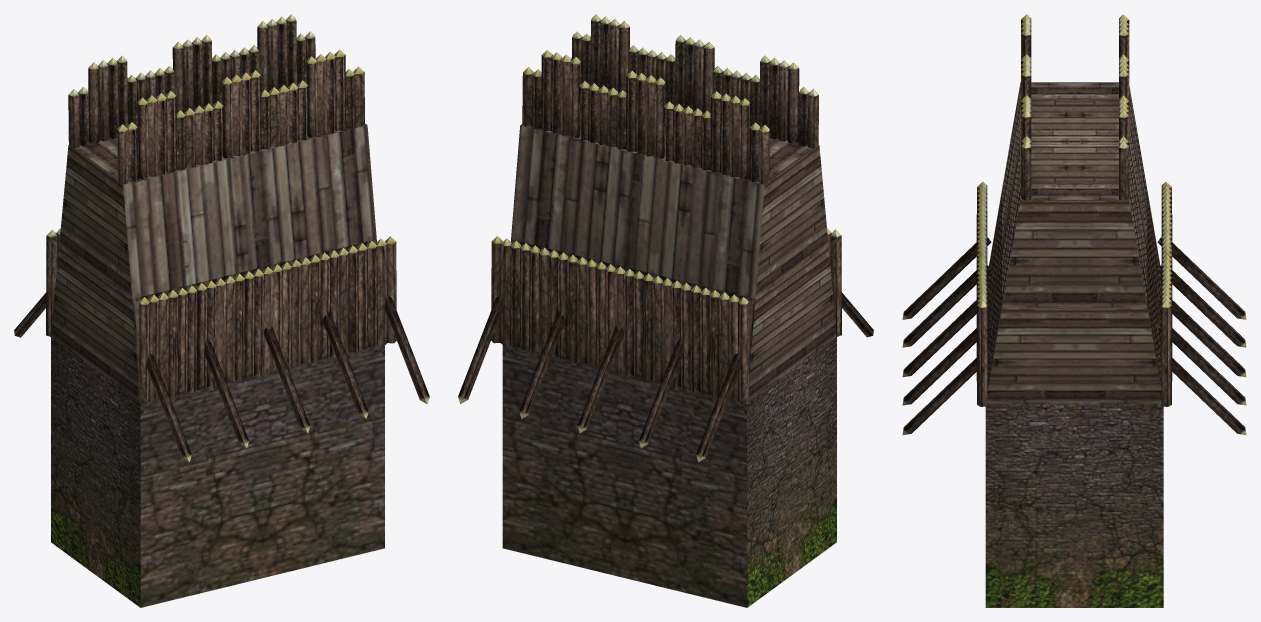
Rendered from s_germans_wooden_wall_short.glb.
The picture shows the model from 3 angles, left to right: view 1: azimuth 30°, elevation 25°; view 2: azimuth 150°, elevation 25°; view 3: azimuth 270°, elevation 25°; orthographic projection.
Visible parts, largest first — view 1: s_germans_wooden_wall_short_part0; view 2: s_germans_wooden_wall_short_part0; view 3: s_germans_wooden_wall_short_part0.
Part boxes in pixels (x1,y1,x2,y2): s_germans_wooden_wall_short_part0: (14,14,429,607); s_germans_wooden_wall_short_part0: (458,14,873,607); s_germans_wooden_wall_short_part0: (902,14,1246,607).
Size of the model in its own units: 3.05 by 5.55 by 3.56.
1 material, 1 textured.
